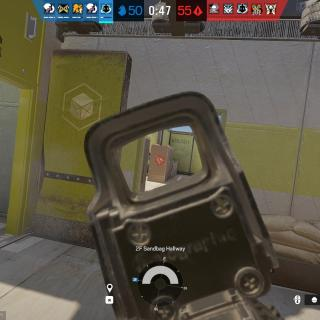Character: (146, 152, 151, 178)
